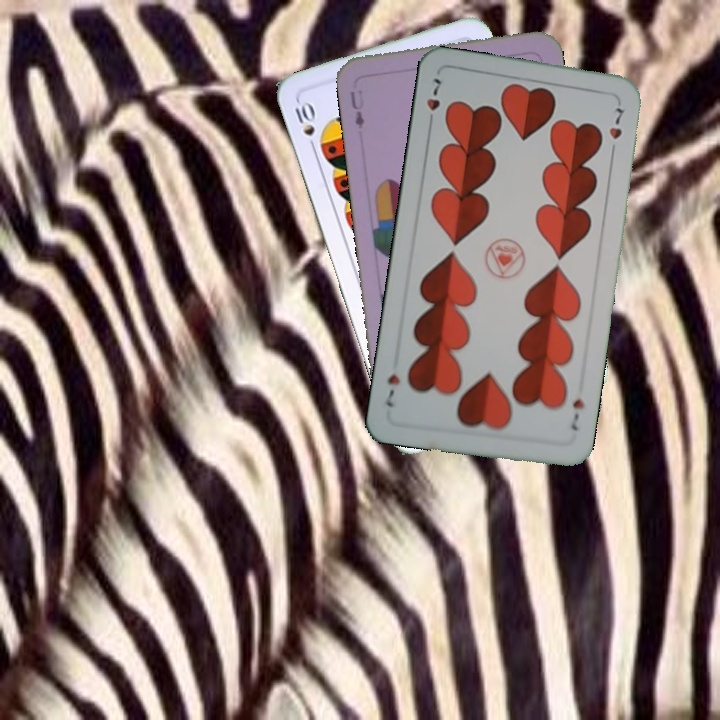EU: (346, 86, 367, 131)
H7: (422, 74, 444, 130), (566, 394, 587, 434)
S10: (291, 97, 319, 155)
